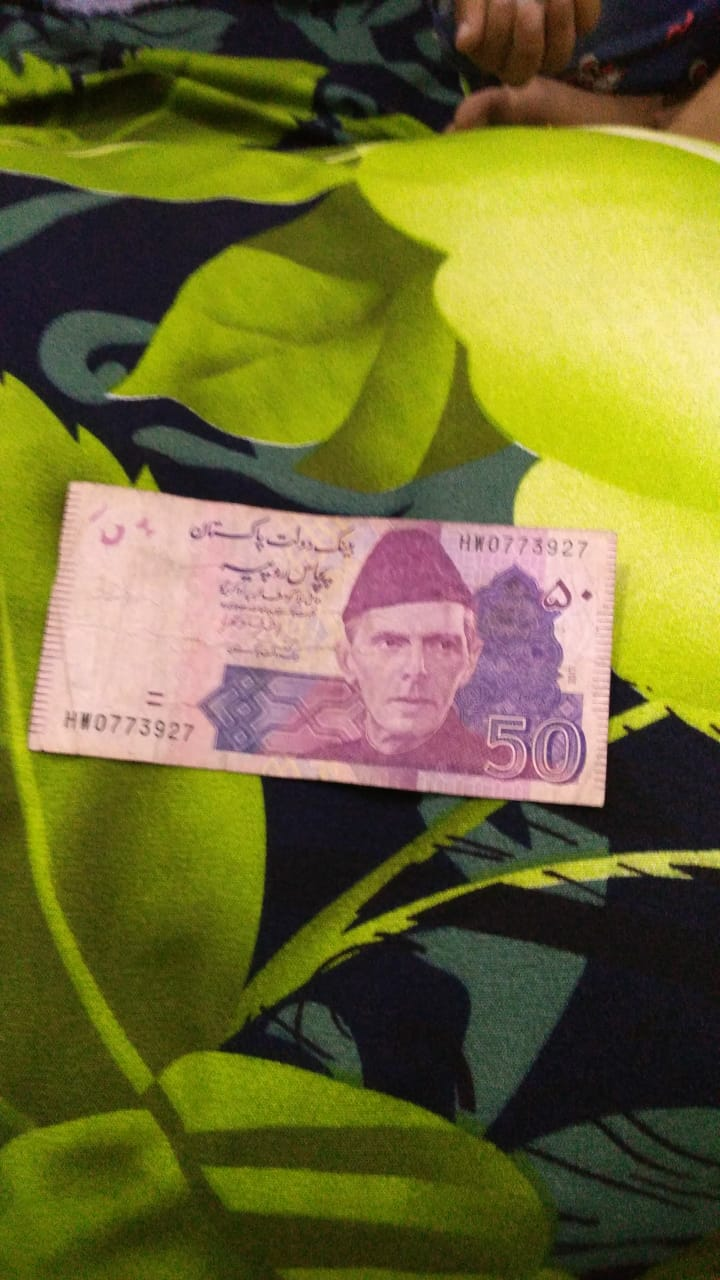50 rupee: (36, 460, 619, 844)
